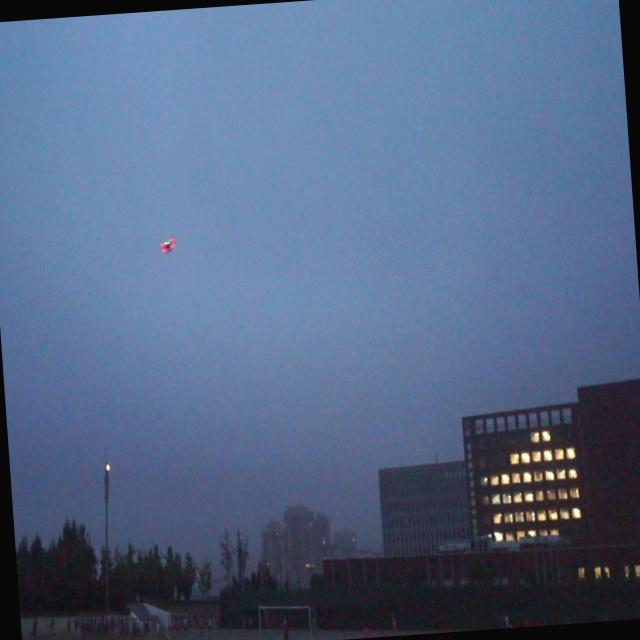drone: (158, 234, 176, 257)
